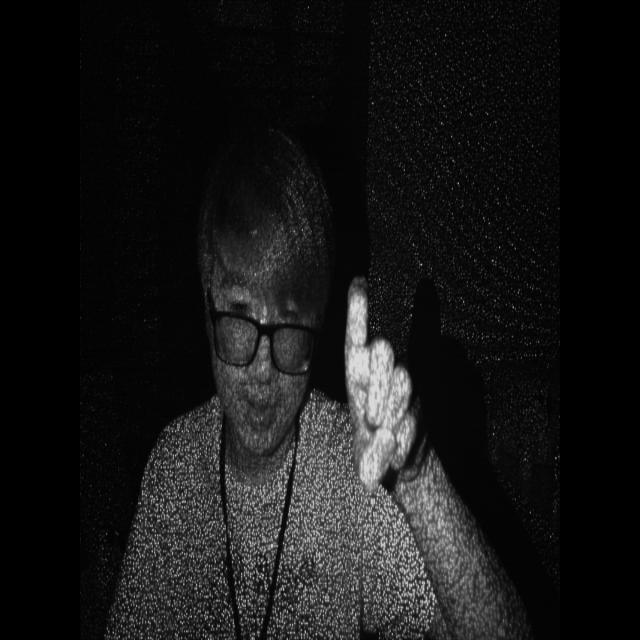X: (335, 266, 430, 484)
